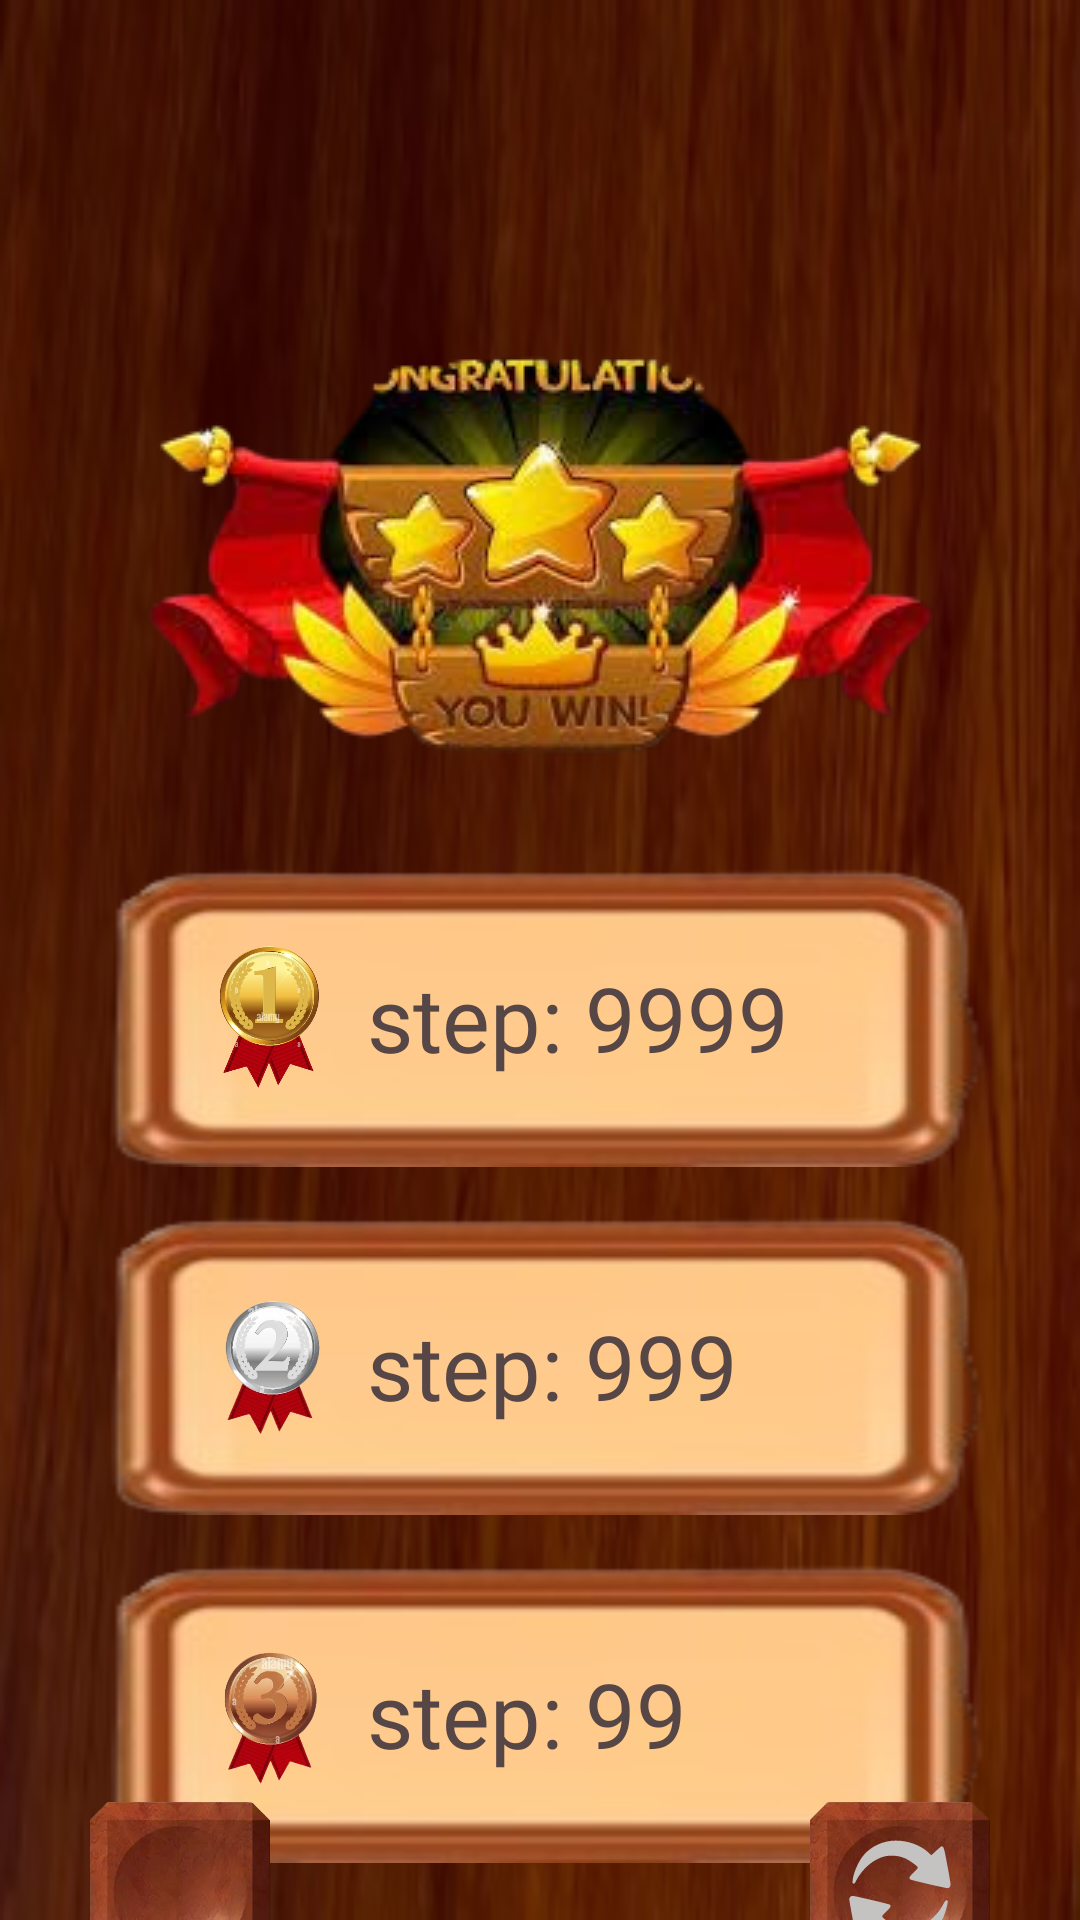

Icon bounding boxes for this 1080×1920 phone screenshot, format (x1, y1, x2, y2):
win one medal: (220, 946, 319, 1088)
win three medal: (225, 1653, 317, 1783)
win two medal: (226, 1301, 320, 1434)
